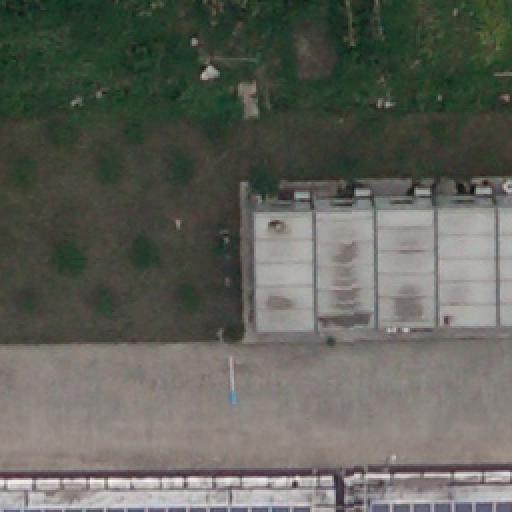solar-panel: (0, 504, 314, 512), (368, 497, 512, 511)
